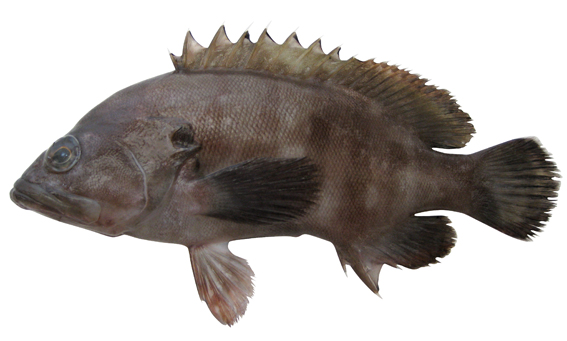fish: (10, 24, 561, 328)
